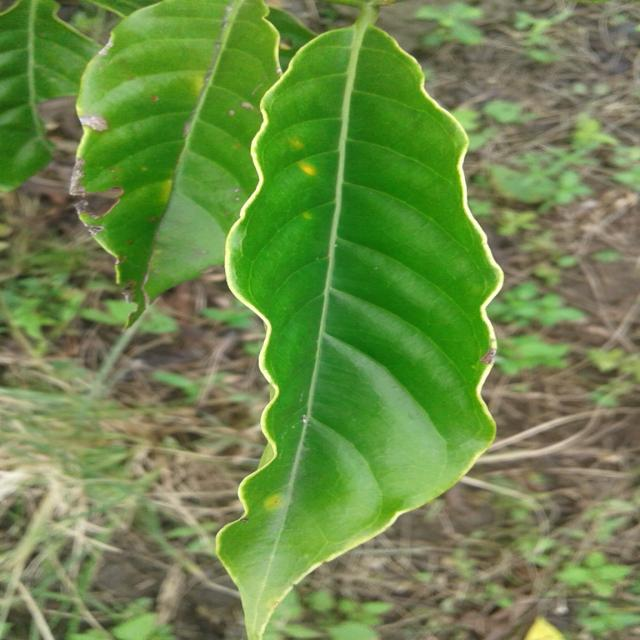Enfermedad-Roya: (214, 27, 504, 640)
